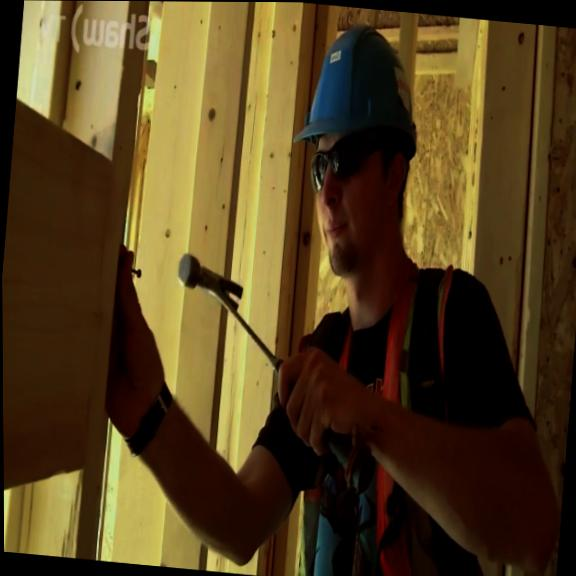safety_vest: (276, 248, 523, 576)
